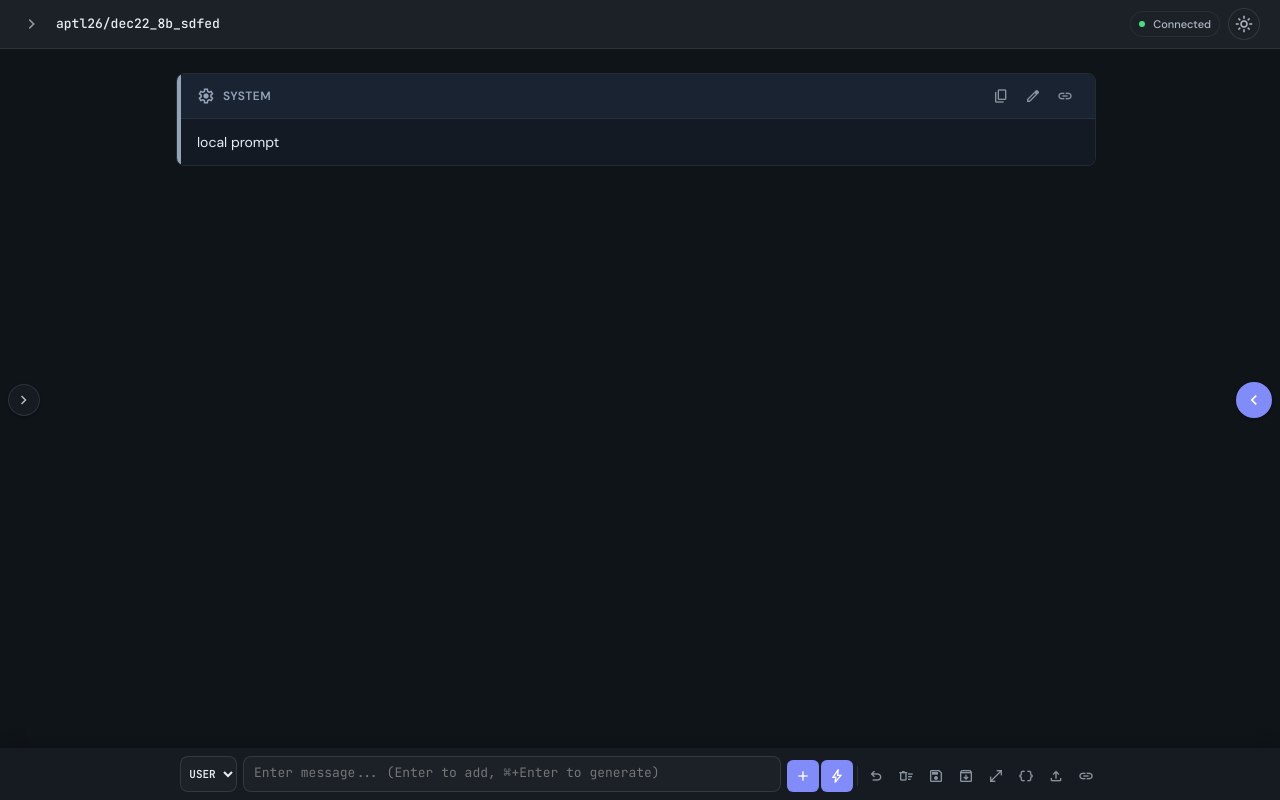
AppShell chat flows › retry forks to a new branch and saves the regenerated turn under it (not the old branch)
The image size is (1280, 800).
// Send a message → generates the original assistant reply.
In the text box with placeholder "Enter message... (Enter to add, ⌘+Enter to generate)": (512, 774) x1=243 y1=756 x2=781 y2=792, type "first user msg"
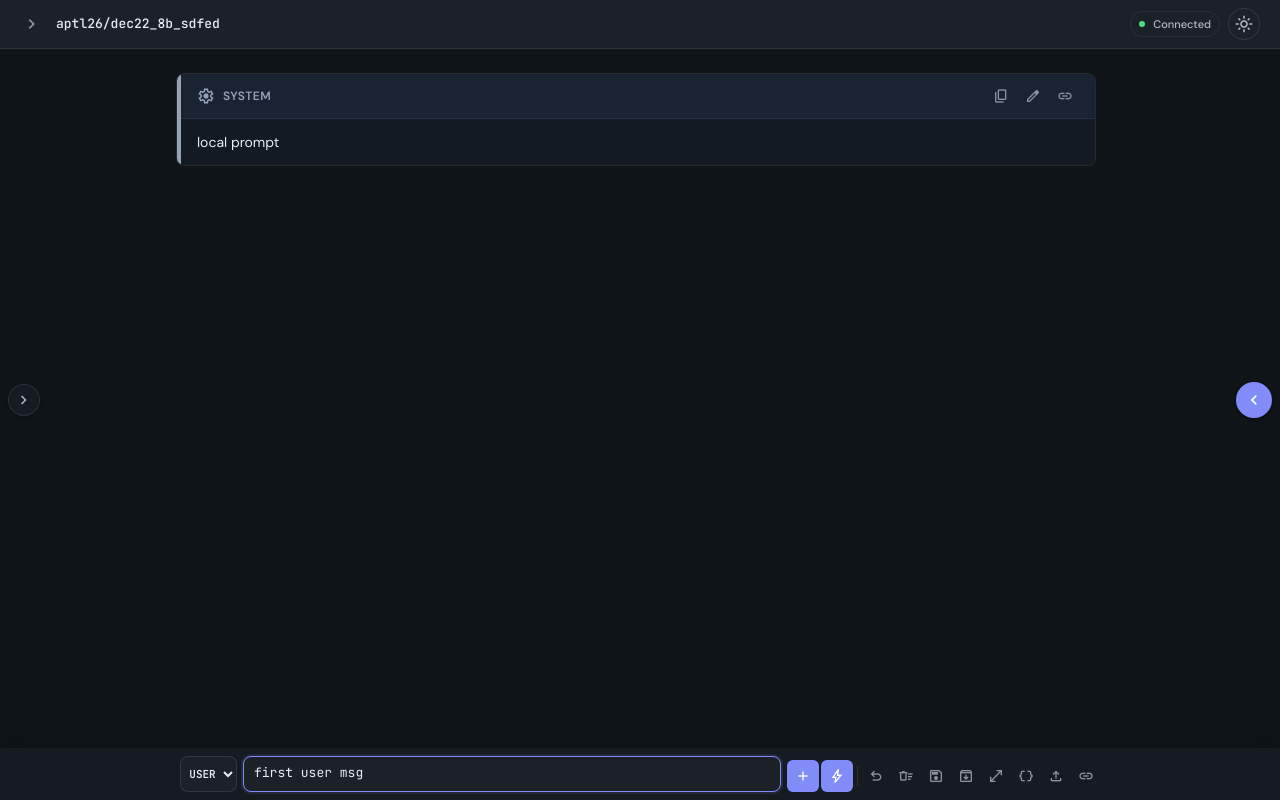
Click the button named "Add": (803, 776) x1=787 y1=760 x2=819 y2=792
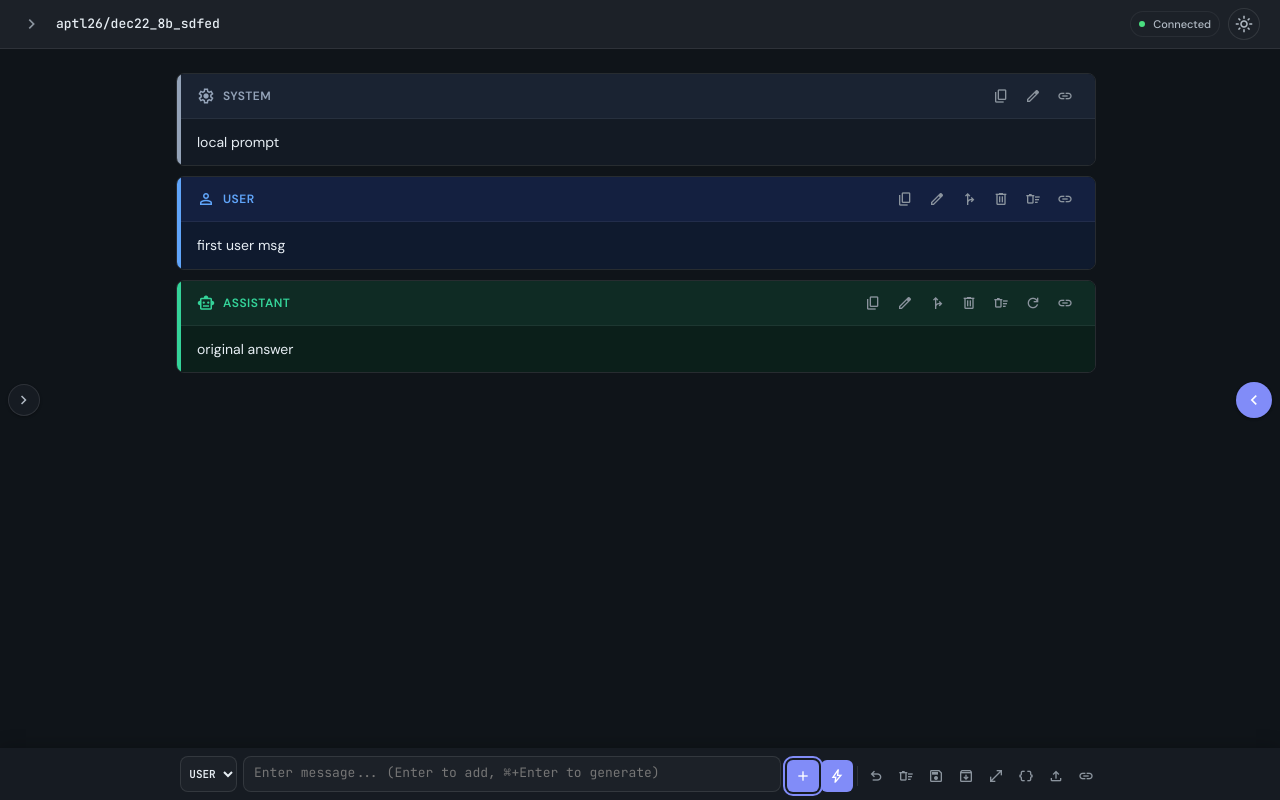
Check: the text "original answer" is shown, box x1=197 y1=340 x2=294 y2=358
Click the button titled "Retry": (1033, 303) x1=1019 y1=289 x2=1047 y2=317
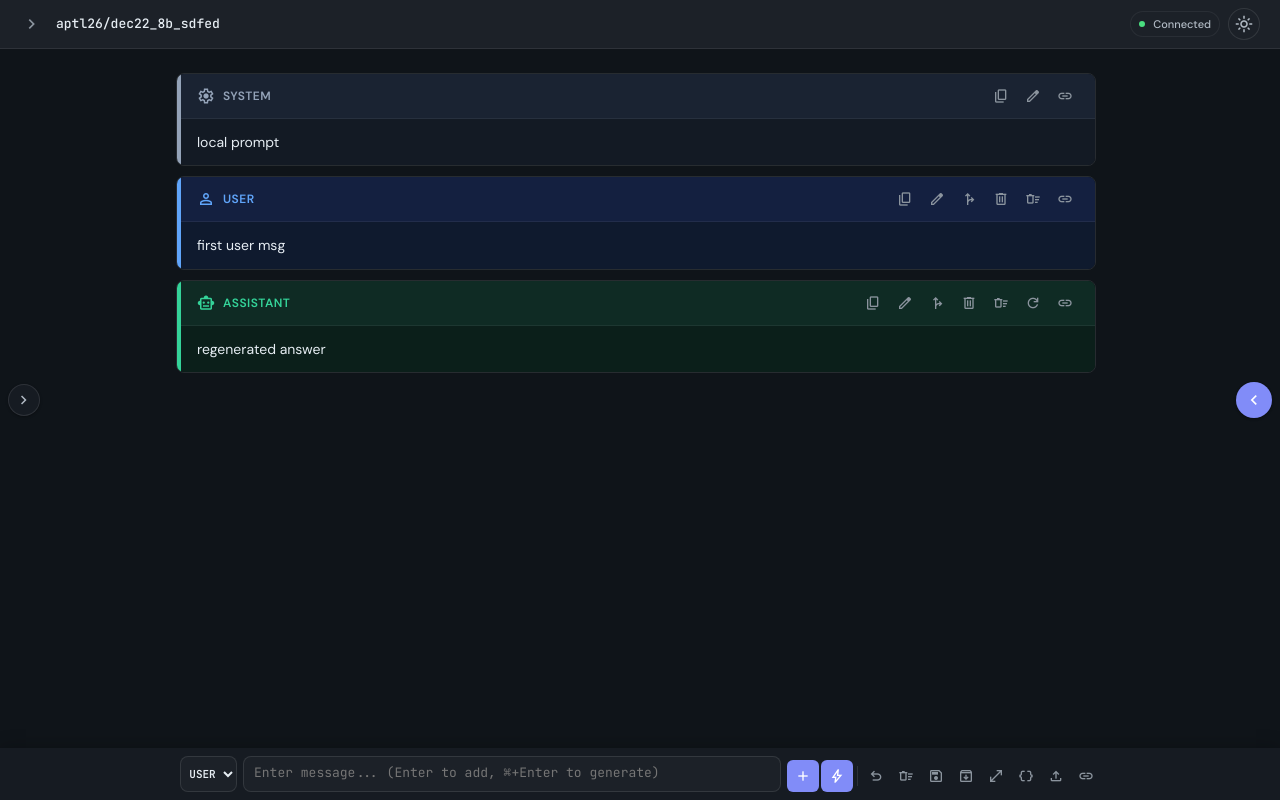
Check: the text "regenerated answer" is shown, box x1=197 y1=340 x2=326 y2=358
